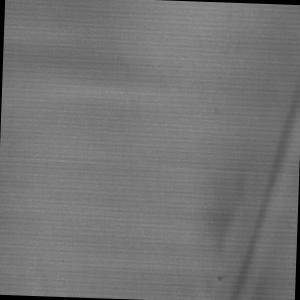Wrinkle: (194, 58, 300, 300), (2, 1, 186, 113)
